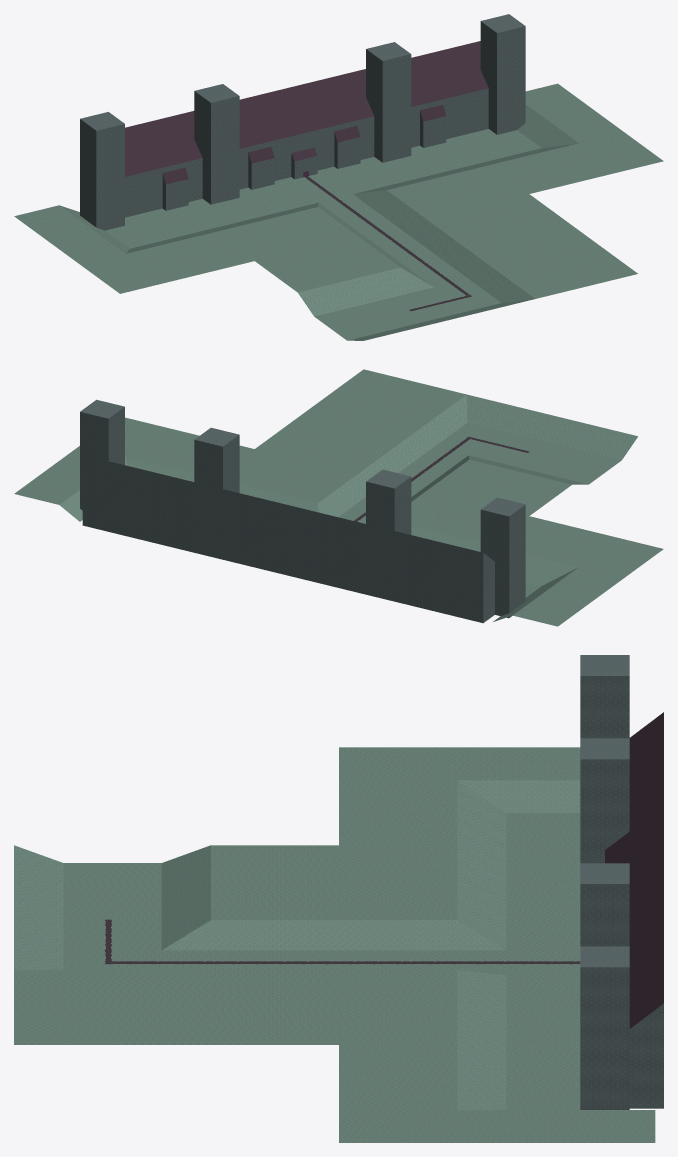
Rendered from CastleOfTheDamned.fbx.
3 views of the same model, one above another, from view 1: azimuth 30°, elevation 25°; view 2: azimuth 150°, elevation 25°; view 3: azimuth 270°, elevation 25° (orthographic). The views are drawn at different scales.
Parts seen in each view (by area): view 1: Castle, Entrance, Tunnel, Entry; view 2: Castle, Entrance, Entry, Tunnel; view 3: Entrance, Tunnel, Entry, Castle.
Part boxes in pixels (<box>): Castle: <box>80,14,525,230</box>; Entrance: <box>14,83,663,293</box>; Tunnel: <box>232,177,571,292</box>; Entry: <box>298,225,637,340</box>; Castle: <box>80,399,525,623</box>; Entrance: <box>14,417,663,626</box>; Entry: <box>298,369,637,484</box>; Tunnel: <box>239,417,571,526</box>; Entrance: <box>339,747,655,1142</box>; Tunnel: <box>211,845,407,1044</box>; Entry: <box>14,845,210,1044</box>; Castle: <box>580,655,663,1109</box>.
Bounding box in the file's own units: 23760 × 4250 × 16500.
